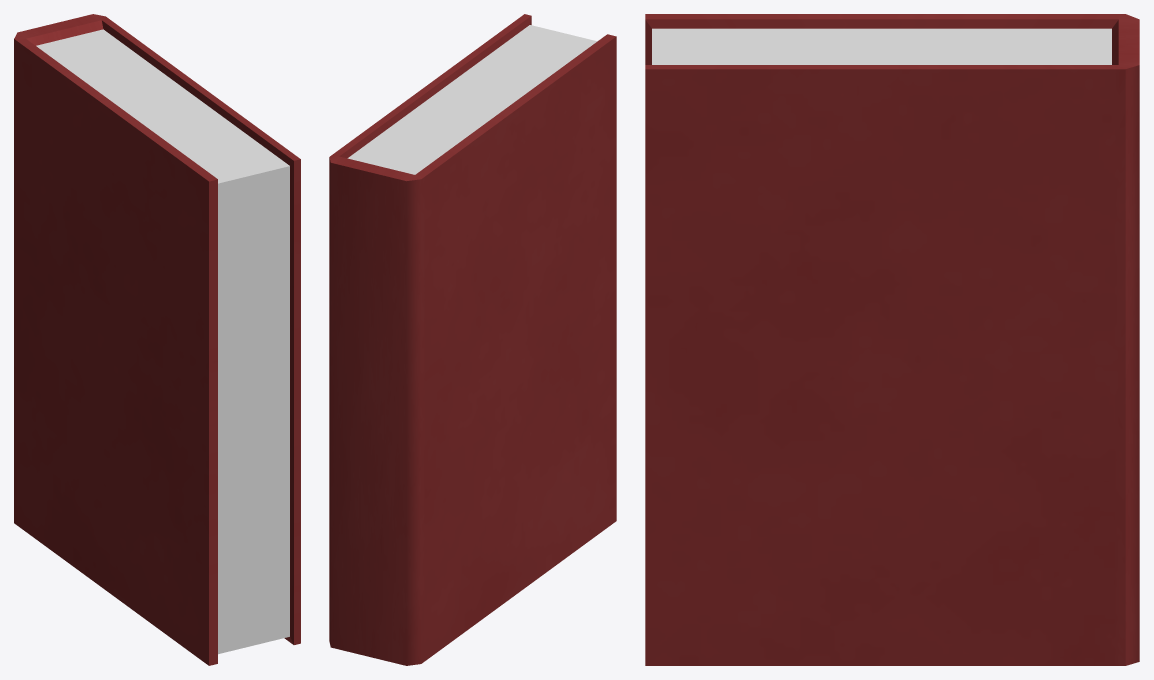
The model's file is LibroRojoGordo.fbx.
3 views of the same model, side by side, from view 1: azimuth 30°, elevation 25°; view 2: azimuth 150°, elevation 25°; view 3: azimuth 270°, elevation 25° (orthographic). The views are drawn at different scales.
Visible parts, largest first — view 1: BibliaRoja; view 2: BibliaRoja; view 3: BibliaRoja.
Boxes of the visible parts, x1,y1,x2,y2 form: BibliaRoja: [14, 14, 300, 665]; BibliaRoja: [329, 14, 616, 665]; BibliaRoja: [645, 14, 1139, 665].
Bounding box in the file's own units: 0.1827 × 0.9214 × 0.692.
Materials: 2 (1 with a texture image).
